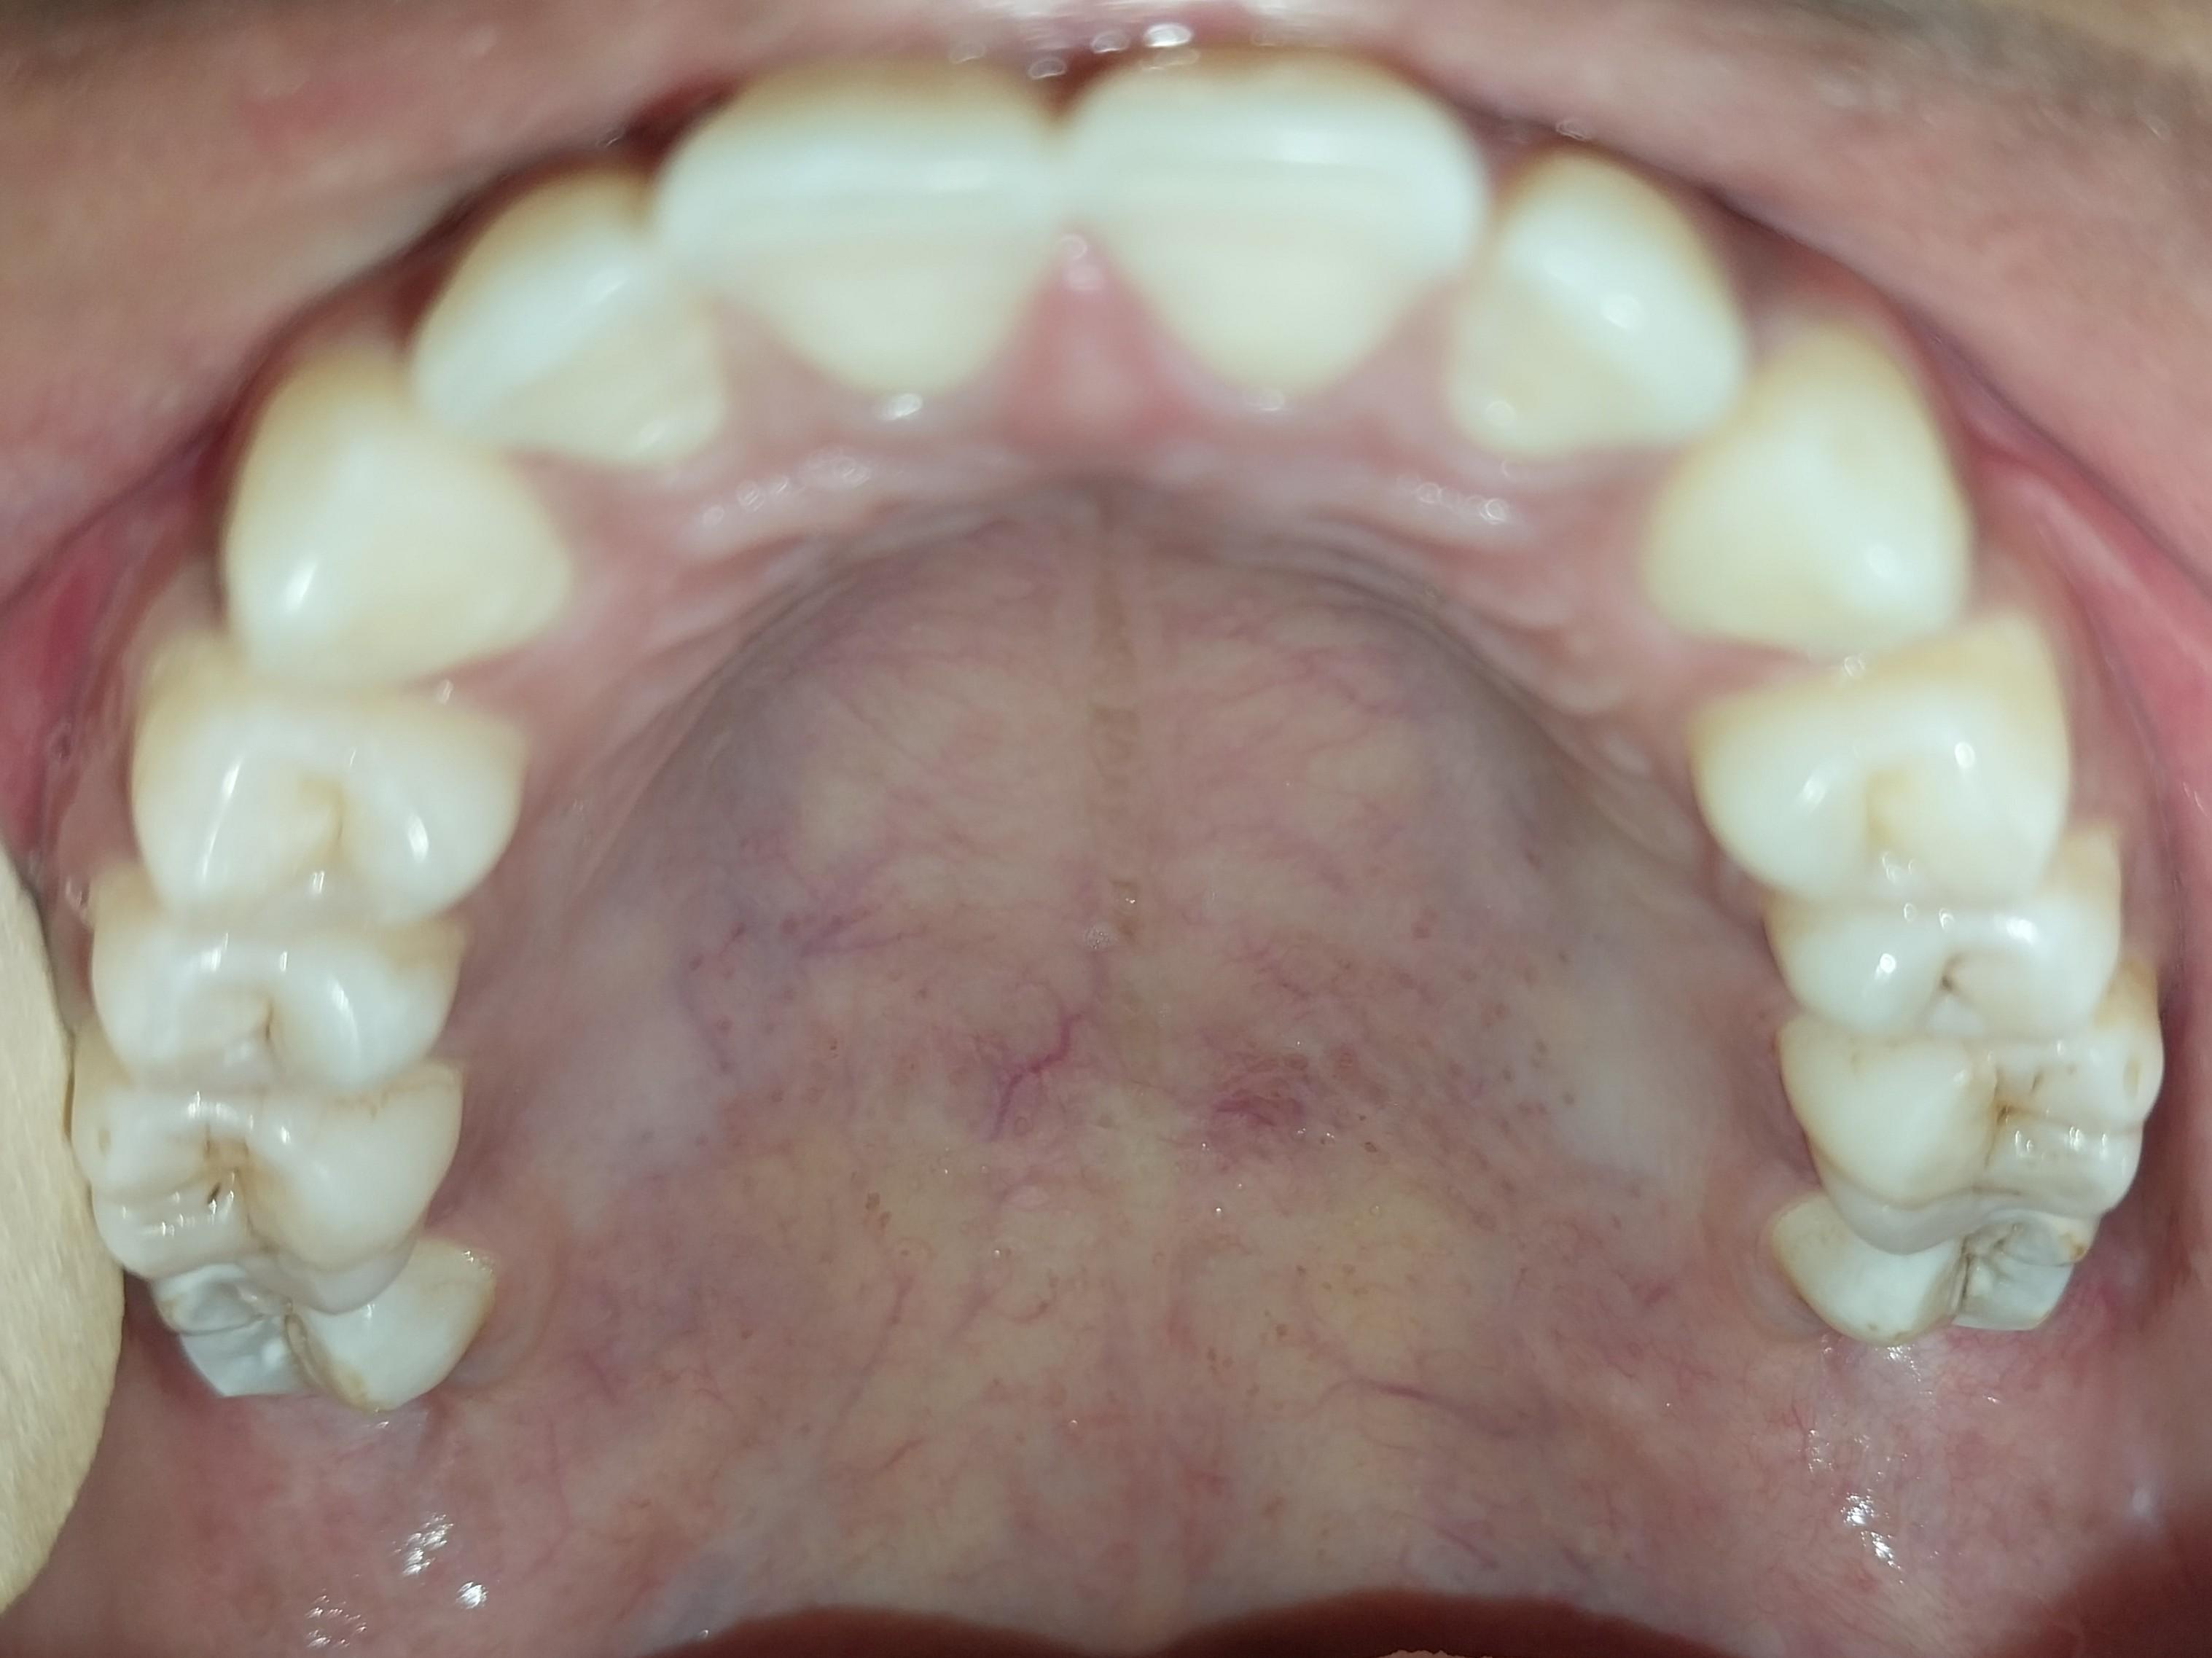D: (61, 1018, 464, 1310), (1766, 996, 2168, 1255), (85, 878, 466, 1101), (1754, 840, 2130, 1024), (1762, 1182, 2102, 1346)
